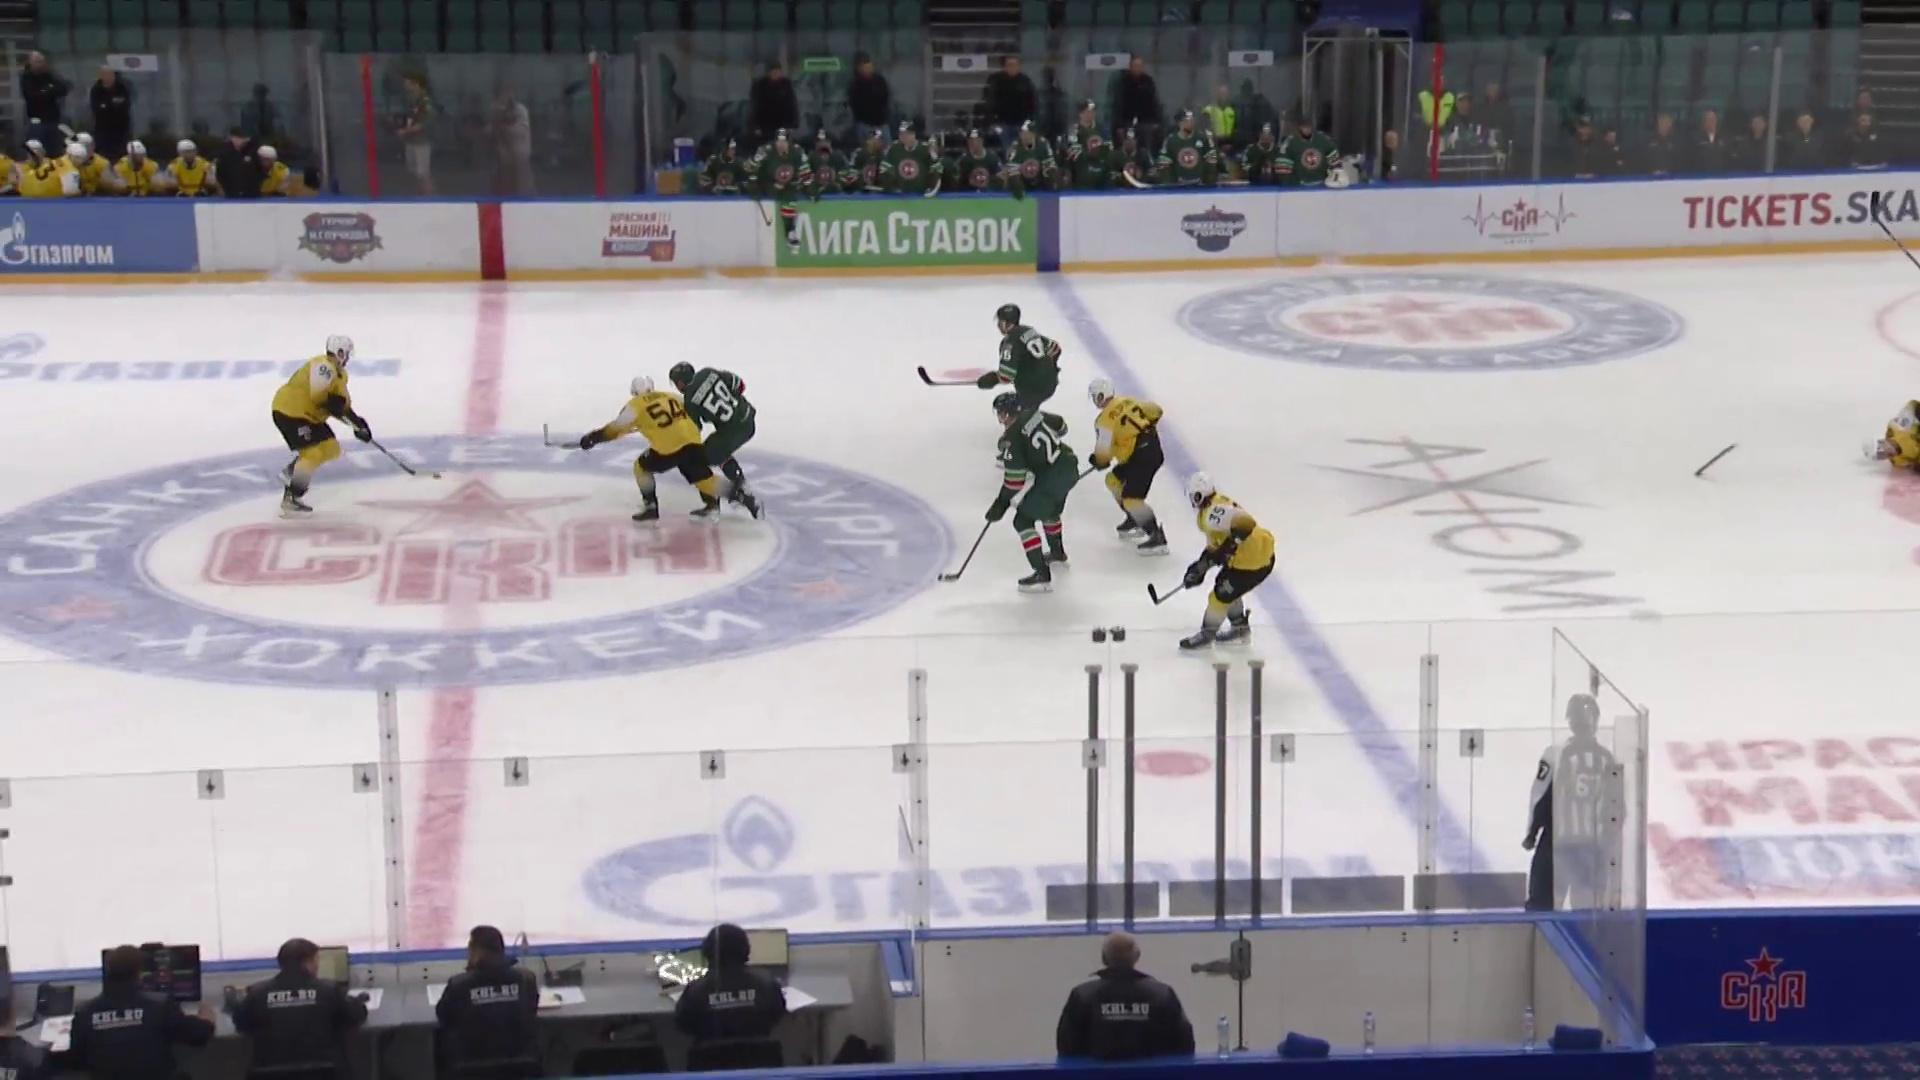ball: (431, 472, 442, 479)
